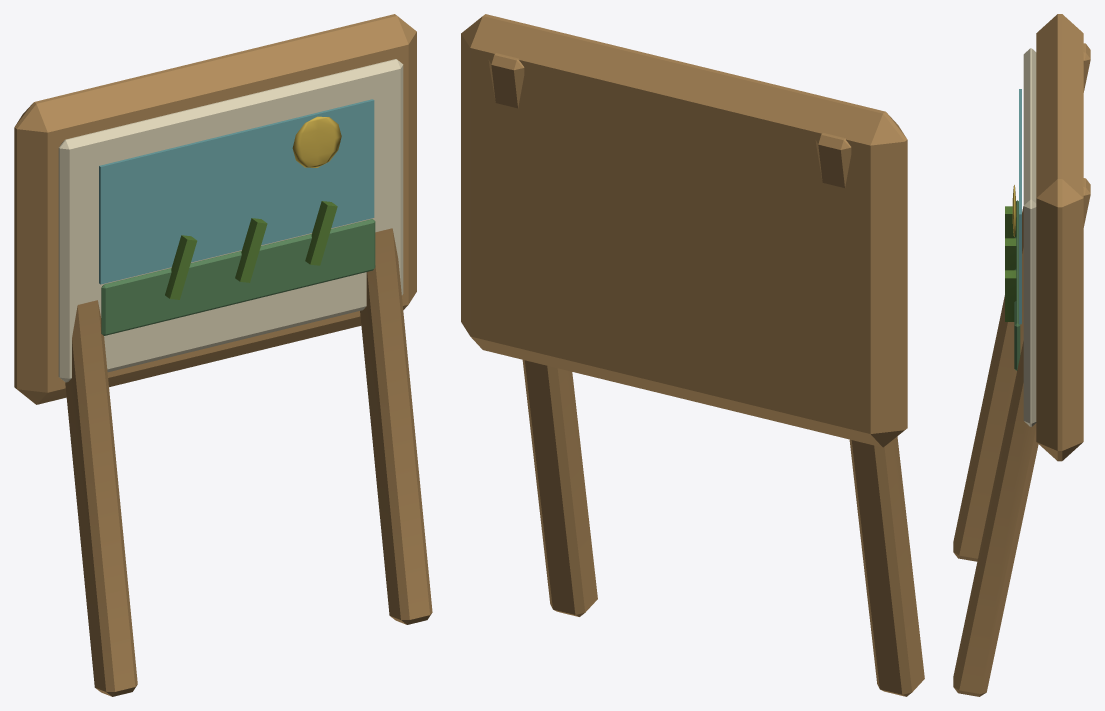
The model's file is sign.glb.
3 views of the same model, side by side, from view 1: azimuth 30°, elevation 25°; view 2: azimuth 150°, elevation 25°; view 3: azimuth 270°, elevation 25° (orthographic). The views are drawn at different scales.
Parts seen in each view (by area): view 1: sign; view 2: sign; view 3: sign.
Part boxes in pixels (<box>): sign: <box>14,14,432,696</box>; sign: <box>461,14,924,696</box>; sign: <box>953,14,1090,696</box>.
Bounding box in the file's own units: 0.57 × 0.7677 × 0.1812.
